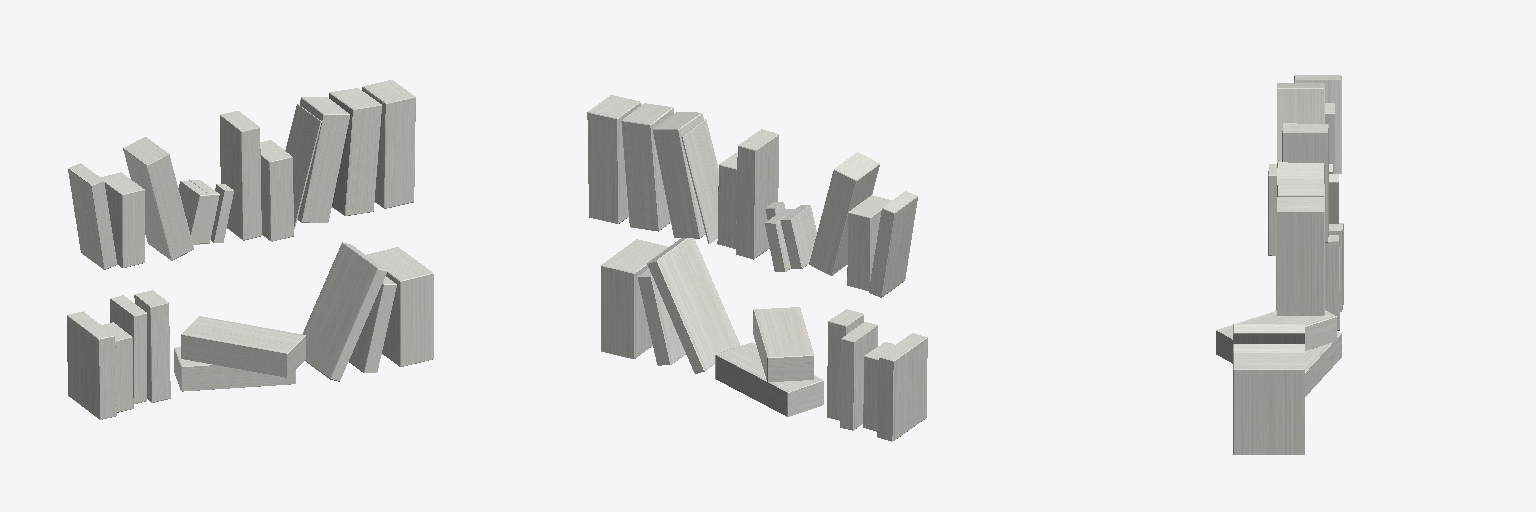
3 views of the same model, side by side, from view 1: azimuth 30°, elevation 25°; view 2: azimuth 150°, elevation 25°; view 3: azimuth 270°, elevation 25° (orthographic).
Visible parts, largest first — view 1: Cylinder.006_Cylinder.012, Cylinder.009_Cylinder.016, Cylinder, Cylinder.010_Cylinder.017, Cylinder.021_Cylinder.009, Cylinder.022_Cylinder.026, Cylinder.028_Cylinder.033, Cylinder.025_Cylinder.030, Cylinder.020_Cylinder.008, Cylinder.004_Cylinder.006, Cylinder.007_Cylinder.014, Cylinder.024_Cylinder.029 (+9 smaller); view 2: Cylinder.006_Cylinder.012, Cylinder, Cylinder.022_Cylinder.026, Cylinder.021_Cylinder.009, Cylinder.025_Cylinder.030, Cylinder.028_Cylinder.033, Cylinder.010_Cylinder.017, Cylinder.008_Cylinder.015, Cylinder.020_Cylinder.008, Cylinder.009_Cylinder.016, Cylinder.004_Cylinder.006, Cylinder.023_Cylinder.028 (+8 smaller); view 3: Cylinder, Cylinder.022_Cylinder.026, Cylinder.010_Cylinder.017, Cylinder.025_Cylinder.030, Cylinder.009_Cylinder.016, Cylinder.006_Cylinder.012, Cylinder.008_Cylinder.015, Cylinder.004_Cylinder.006, Cylinder.026_Cylinder.031, Cylinder.021_Cylinder.009, Cylinder.024_Cylinder.029, Cylinder.020_Cylinder.008 (+2 smaller).
Part boxes in pixels (bbox=[...]): Cylinder.006_Cylinder.012: bbox=[303, 242, 386, 381]; Cylinder.009_Cylinder.016: bbox=[181, 316, 305, 377]; Cylinder: bbox=[366, 247, 433, 366]; Cylinder.010_Cylinder.017: bbox=[123, 137, 193, 260]; Cylinder.021_Cylinder.009: bbox=[329, 88, 381, 215]; Cylinder.022_Cylinder.026: bbox=[362, 80, 415, 208]; Cylinder.028_Cylinder.033: bbox=[67, 311, 116, 419]; Cylinder.025_Cylinder.030: bbox=[220, 111, 261, 240]; Cylinder.020_Cylinder.008: bbox=[297, 97, 349, 222]; Cylinder.004_Cylinder.006: bbox=[68, 163, 116, 269]; Cylinder.007_Cylinder.014: bbox=[100, 172, 144, 267]; Cylinder.024_Cylinder.029: bbox=[260, 140, 293, 241]; Cylinder.006_Cylinder.012: bbox=[647, 238, 739, 373]; Cylinder: bbox=[601, 239, 667, 358]; Cylinder.022_Cylinder.026: bbox=[587, 95, 640, 223]; Cylinder.021_Cylinder.009: bbox=[621, 103, 673, 231]; Cylinder.025_Cylinder.030: bbox=[736, 129, 778, 259]; Cylinder.028_Cylinder.033: bbox=[877, 333, 927, 441]; Cylinder.010_Cylinder.017: bbox=[809, 152, 879, 275]; Cylinder.008_Cylinder.015: bbox=[715, 342, 823, 416]; Cylinder.020_Cylinder.008: bbox=[653, 112, 705, 238]; Cylinder.009_Cylinder.016: bbox=[753, 307, 813, 381]; Cylinder.004_Cylinder.006: bbox=[869, 191, 917, 297]; Cylinder.023_Cylinder.028: bbox=[681, 119, 718, 243]; Cylinder: bbox=[1233, 353, 1304, 454]; Cylinder.022_Cylinder.026: bbox=[1277, 197, 1324, 315]; Cylinder.010_Cylinder.017: bbox=[1277, 83, 1324, 162]; Cylinder.025_Cylinder.030: bbox=[1282, 123, 1328, 242]; Cylinder.009_Cylinder.016: bbox=[1216, 310, 1336, 363]; Cylinder.006_Cylinder.012: bbox=[1233, 324, 1304, 343]; Cylinder.008_Cylinder.015: bbox=[1305, 332, 1341, 396]; Cylinder.004_Cylinder.006: bbox=[1294, 75, 1341, 173]; Cylinder.026_Cylinder.031: bbox=[1325, 235, 1339, 330]; Cylinder.021_Cylinder.009: bbox=[1277, 179, 1324, 196]; Cylinder.024_Cylinder.029: bbox=[1268, 164, 1276, 255]; Cylinder.020_Cylinder.008: bbox=[1277, 162, 1324, 183].
Bounding box in the file's own units: 1.96 × 1.5 × 0.681.
Materials: 1 (1 with a texture image).